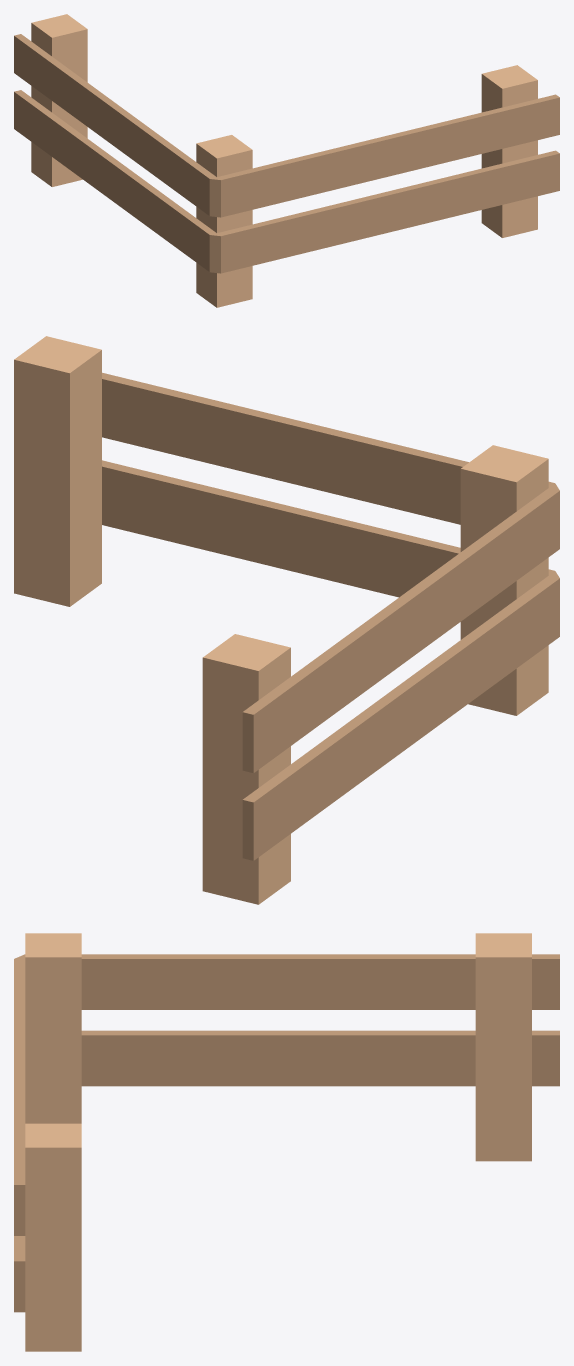
3 views of the same model, one above another, from view 1: azimuth 30°, elevation 25°; view 2: azimuth 150°, elevation 25°; view 3: azimuth 270°, elevation 25° (orthographic). The views are drawn at different scales.
Parts seen in each view (by area): view 1: fenceCorner; view 2: fenceCorner; view 3: fenceCorner.
Boxes of the visible parts, <box> form: fenceCorner: <box>14,14,559,307</box>; fenceCorner: <box>14,336,559,904</box>; fenceCorner: <box>14,933,559,1351</box>.
Size of the model in its own units: 0.97 by 0.4 by 0.97.
